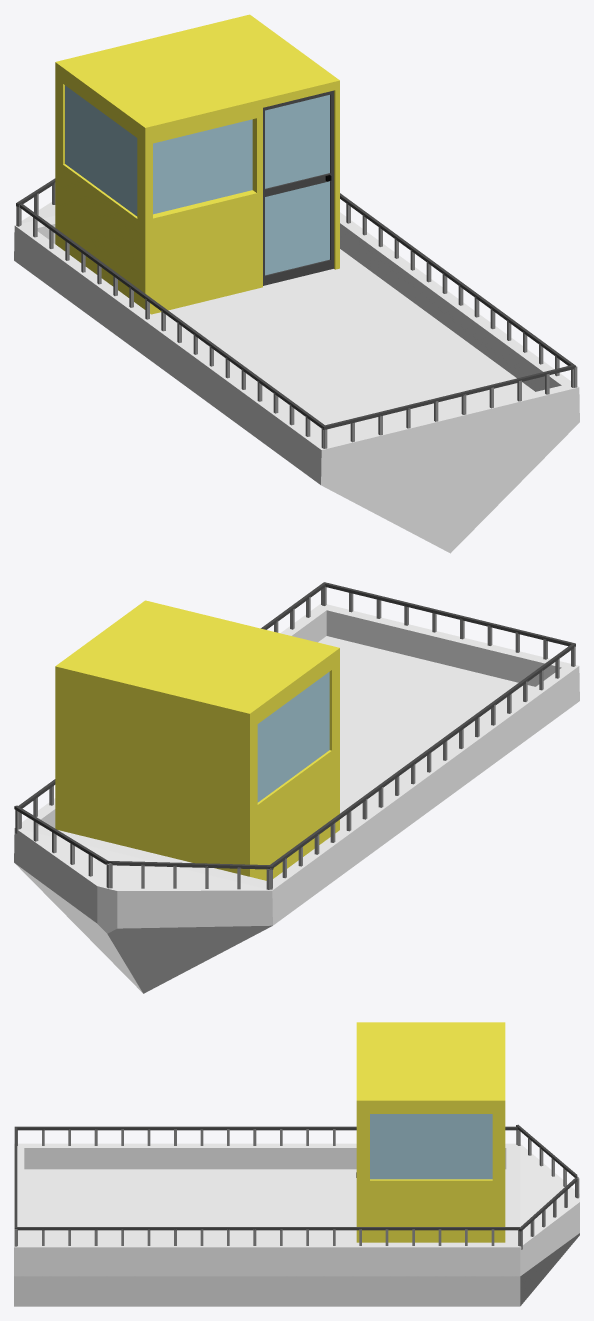
Rendered from BarcoAamarollo.fbx.
The picture shows the model from 3 angles, top to bottom: view 1: azimuth 30°, elevation 25°; view 2: azimuth 150°, elevation 25°; view 3: azimuth 270°, elevation 25°; orthographic projection. The views are drawn at different scales.
Parts seen in each view (by area): view 1: Cylinder, Cube.001, Cube.002, Cube.005, Cube.004, Cube.006, Cube.003, Cube.010, Cube.007, Cube.012, Cube.011, Cube.014 (+1 smaller); view 2: Cylinder, Cube.001, Cube.005, Cube.007, Cube.010, Cube.014, Cube.013, Cube.017, Cube.015, Cube.012, Cube.011, Cube.016 (+1 smaller); view 3: Cylinder, Cube.001, Cube.008, Cube.012, Cube.010, Cube.011, Cube.007, Cube.015, Cube.014.
Boxes of the visible parts, x1,y1,x2,y2 form: Cylinder: (14, 202, 579, 553); Cube.001: (55, 14, 339, 314); Cube.002: (153, 119, 252, 214); Cube.005: (65, 85, 137, 216); Cube.004: (265, 95, 329, 188); Cube.006: (265, 181, 329, 275); Cube.003: (263, 90, 333, 285); Cube.010: (19, 203, 326, 429); Cube.007: (21, 209, 323, 448); Cube.012: (340, 193, 575, 367); Cube.011: (346, 203, 573, 387); Cube.014: (324, 365, 574, 429); Cylinder: (14, 603, 579, 993); Cube.001: (55, 600, 339, 880); Cube.005: (257, 672, 329, 802); Cube.007: (266, 646, 575, 889); Cube.010: (268, 643, 575, 869); Cube.014: (325, 583, 572, 646); Cube.013: (321, 589, 571, 665); Cube.017: (106, 861, 273, 869); Cube.015: (15, 810, 109, 888); Cube.012: (18, 582, 326, 808); Cube.011: (19, 586, 326, 828); Cube.016: (14, 805, 107, 864); Cylinder: (14, 1143, 579, 1306); Cube.001: (356, 1022, 505, 1242); Cube.008: (370, 1114, 492, 1179); Cube.012: (14, 1227, 519, 1230); Cube.010: (14, 1126, 517, 1130); Cube.011: (17, 1229, 519, 1245); Cube.007: (17, 1129, 520, 1145); Cube.015: (519, 1178, 579, 1249); Cube.014: (14, 1127, 17, 1226).
Size of the model in its own units: 89.67 by 98.31 by 206.
